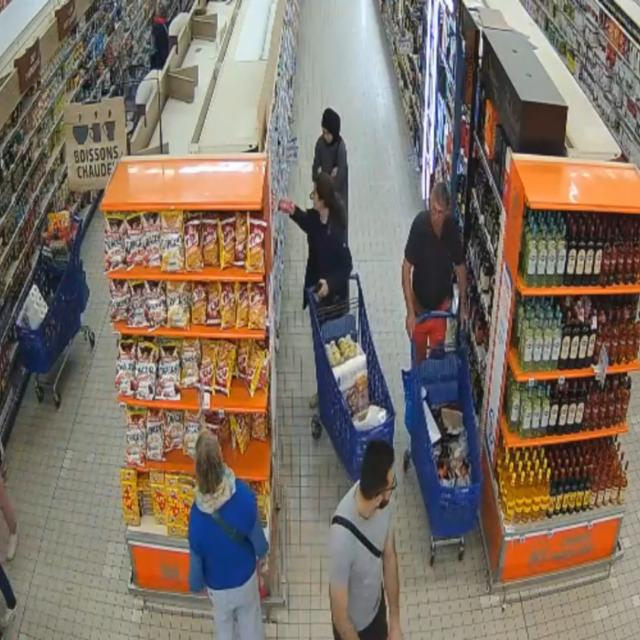article: (279, 199, 294, 214)
bags: (211, 512, 268, 558)
hands: (388, 617, 402, 639), (316, 279, 329, 299), (406, 312, 415, 339), (460, 303, 468, 329), (331, 167, 338, 178)
person: (189, 431, 268, 639), (329, 441, 401, 639), (402, 182, 466, 362), (280, 173, 352, 308), (313, 108, 348, 229), (151, 2, 170, 70)
